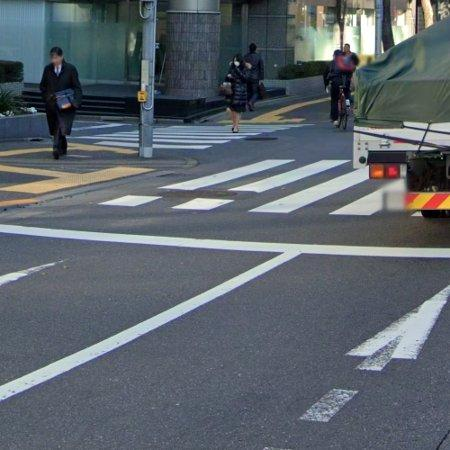crosswalks: (161, 154, 396, 216)
